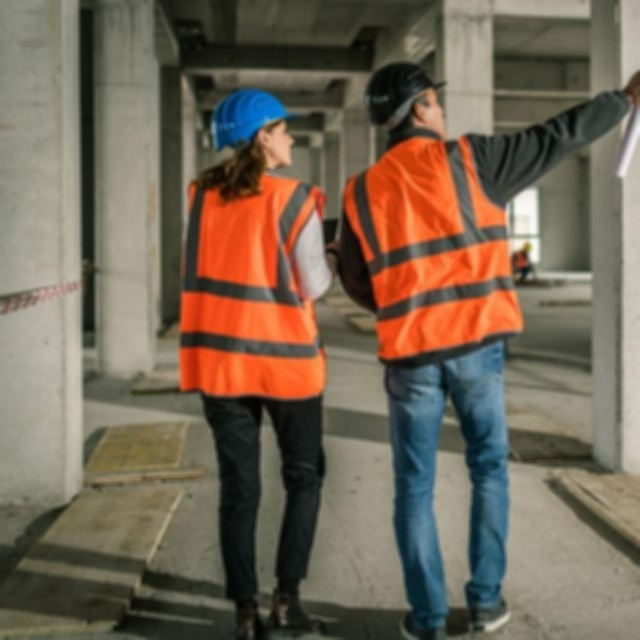Con_Casco: (208, 89, 300, 171)
Con_Chaleco: (348, 138, 524, 358), (185, 167, 334, 399)
